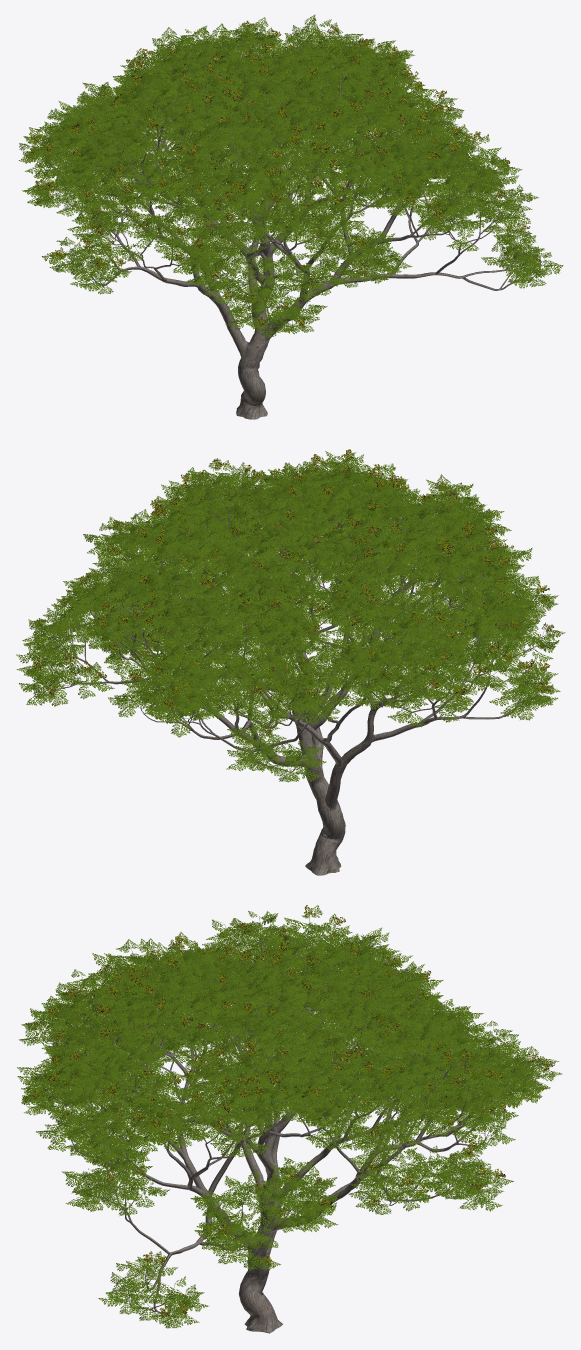
File: Melia azedarach HD_Wild no flower mat 50_LOD0.fbx
3 views of the same model, one above another, from view 1: azimuth 30°, elevation 25°; view 2: azimuth 150°, elevation 25°; view 3: azimuth 270°, elevation 25° (orthographic). The views are drawn at different scales.
Visible parts, largest first — view 1: Melia_azedarach_HD; view 2: Melia_azedarach_HD; view 3: Melia_azedarach_HD.
Boxes of the visible parts, x1=… form: Melia_azedarach_HD: x1=19, y1=14, x2=563, y2=419; Melia_azedarach_HD: x1=16, y1=449, x2=565, y2=875; Melia_azedarach_HD: x1=17, y1=905, x2=562, y2=1333.
Size of the model in its own units: 8.71 by 6.41 by 8.34.
